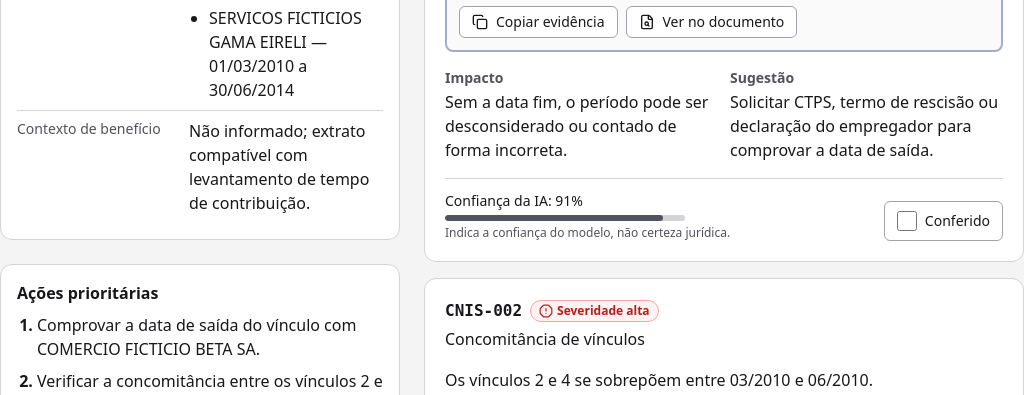
ReportView — relatório completo › marca achados como conferidos e mostra o progresso
(page scrolled)
Click the checkbox named "Conferido (CNIS-001)". click: coordinates (907, 221)
box: [897,211,917,231]
(page scrolled)
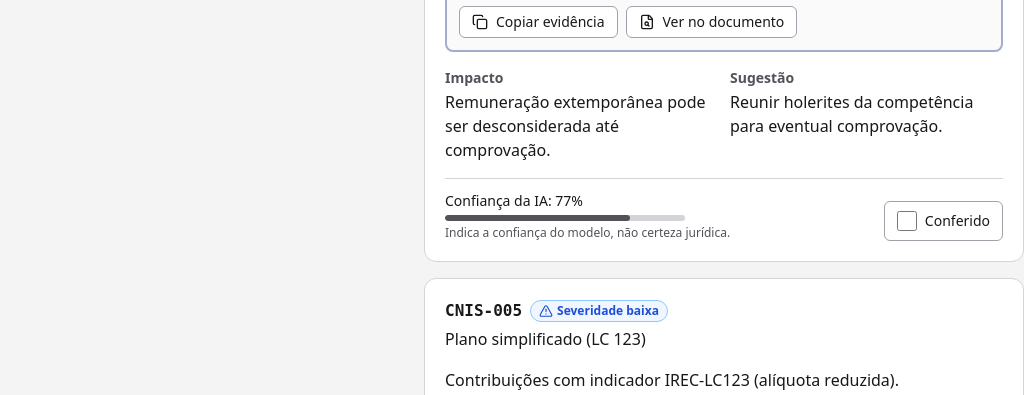
Click the checkbox named "Conferido (CNIS-003)". click: coordinates (907, 221)
box: [897,211,917,231]
(page scrolled)
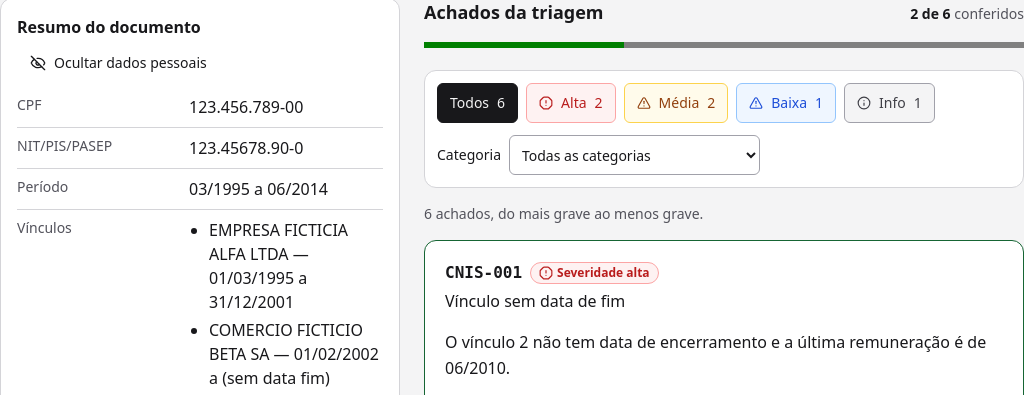
expect the text "2 de 6" is shown: met, box [910,4,951,23]
